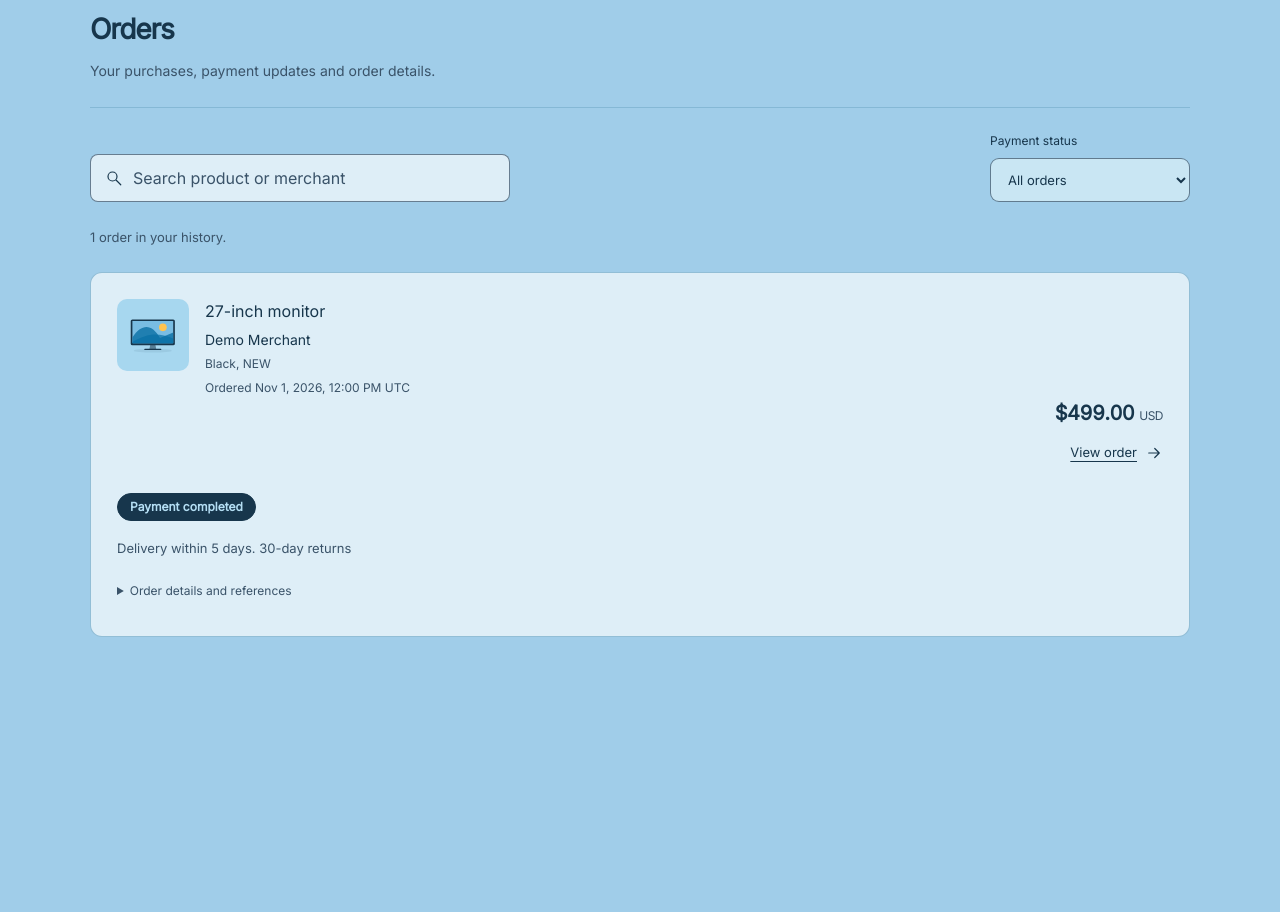
Test case: copies the payment reference only when the buyer asks
Expected: the heading "27-inch monitor" is shown, [205,301,325,321]
Click the heading "Order details and references": (211, 591) [130,583,292,598]
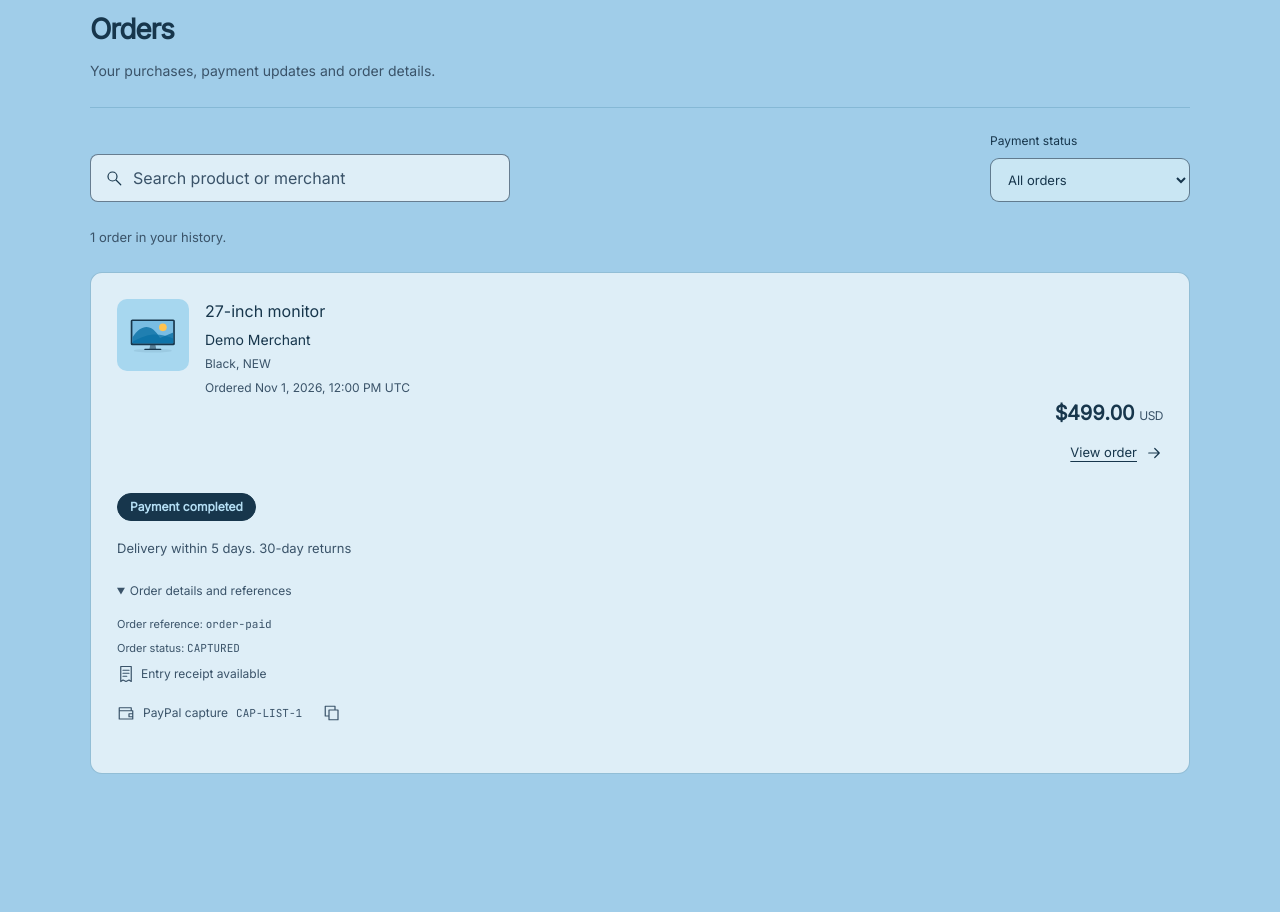
Click the button named "Copy PayPal capture reference for order-paid": (332, 713) [310,691,354,735]
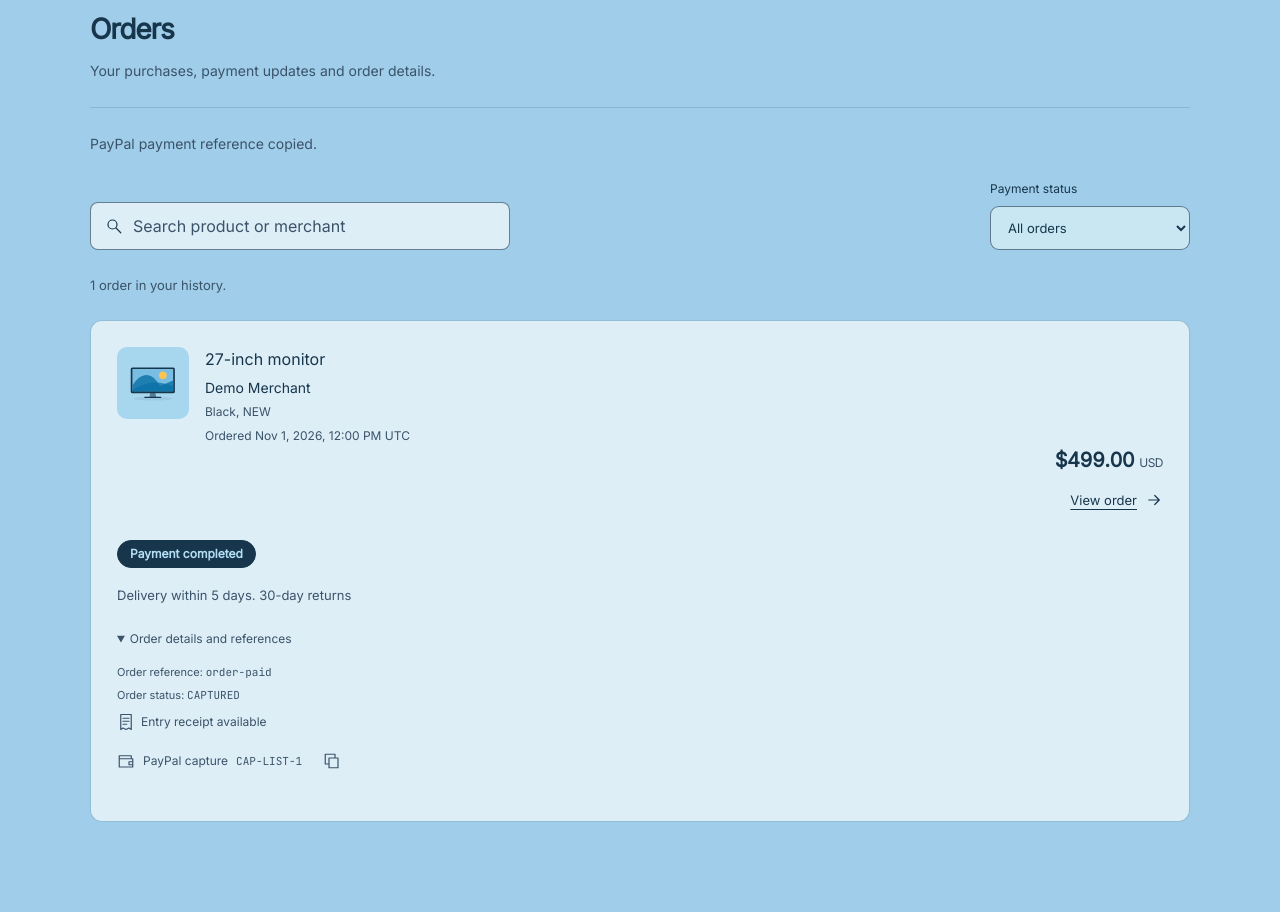
Expected: the text "PayPal payment reference copied." is shown, [90,135,317,152]
